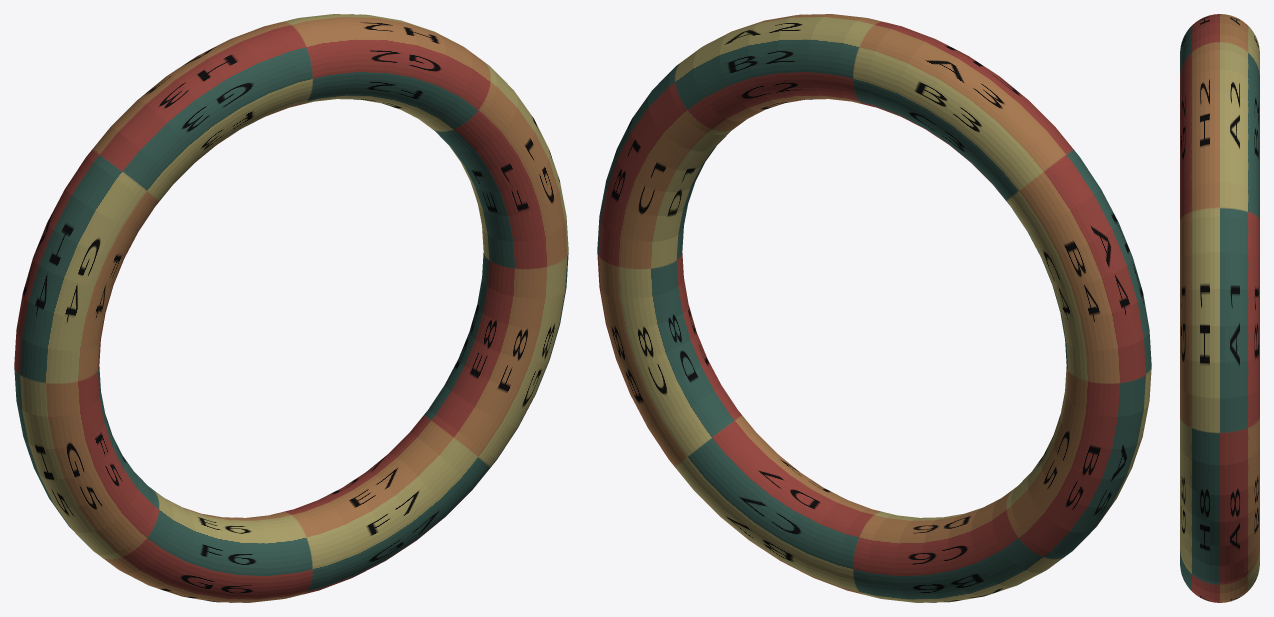
File: texture_torus_R27_r9.glb
3 renders of one model, left to right at view 1: azimuth 30°, elevation 25°; view 2: azimuth 150°, elevation 25°; view 3: azimuth 270°, elevation 25°, orthographic. The views are drawn at different scales.
Parts seen in each view (by area): view 1: world; view 2: world; view 3: world.
Part boxes in pixels (x1,y1,x2,y2): world: (14, 14, 568, 602); world: (597, 14, 1151, 602); world: (1180, 14, 1259, 602).
Size of the model in its own units: 32.4 by 32.34 by 4.39.
1 material, 1 textured.
